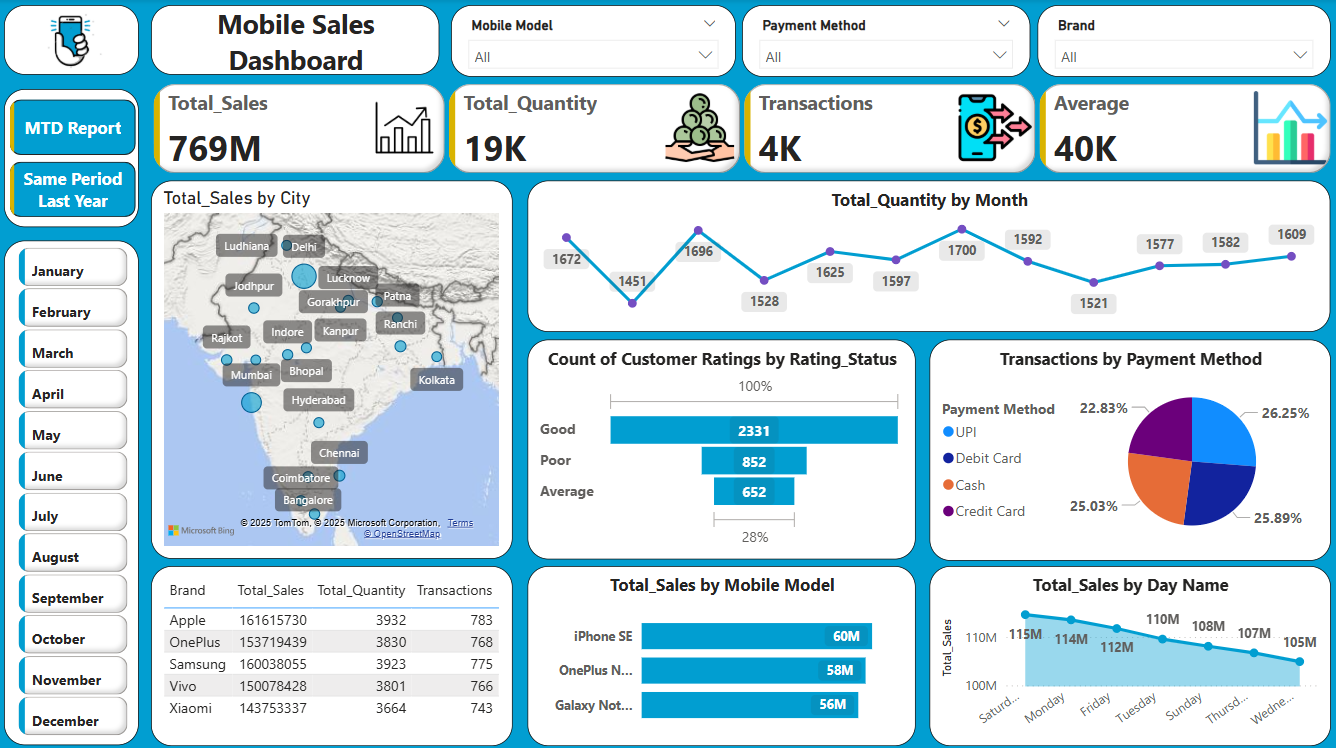

What the dashboard file says about the page in this screenshot:
{"tool":"powerbi","page":{"name":"My_Dashboard","canvas":[1280,720],"ordinal":0},"visuals":[{"type":"shape","box":[6.4,6.4,128.8,66.8],"z":0},{"type":"shape","box":[6.4,230.6,128.8,482],"z":1000},{"type":"advancedSlicerVisual","fields":{"Values":["Custom_Calendar.Date.Variation.Date Hierarchy.Month"]},"box":[14.3,232.2,114.5,482],"z":2000},{"type":"cardVisual","fields":{"Data":["Sales_Data.Total_Sales","Sales_Data.Total_Quantity","Sales_Data.Transactions","Sales_Data.Average"]},"box":[143.2,76.3,1135.7,95.4],"z":3000},{"type":"map","fields":{"Category":["Sales_Data.City"],"Size":["Sales_Data.Total_Sales"]},"box":[146.3,173.4,345.2,361.1],"z":4000},{"type":"lineChart","fields":{"Y":["Sales_Data.Total_Quantity"],"Category":["Custom_Calendar.Date.Variation.Date Hierarchy.Month"]},"box":[505.8,173.4,766.7,144.7],"z":5000},{"type":"clusteredBarChart","fields":{"Category":["Sales_Data.Mobile Model"],"Y":["Sales_Data.Total_Sales"]},"box":[505.8,540.8,370.6,171.8],"z":6000},{"type":"pieChart","fields":{"Category":["Sales_Data.Payment Method"],"Y":["Sales_Data.Transactions"]},"box":[889.2,324.5,383.3,211.6],"z":7000},{"type":"tableEx","fields":{"Values":["Sales_Data.Brand","Sales_Data.Total_Sales","Sales_Data.Total_Quantity","Sales_Data.Transactions"]},"box":[146.3,540.8,345.2,171.8],"z":8000},{"type":"slicer","fields":{"Values":["Sales_Data.Mobile Model"]},"box":[432.6,6.4,272,68.4],"z":9000},{"type":"slicer","fields":{"Values":["Sales_Data.Payment Method"]},"box":[711,6.4,275.2,68.4],"z":10000},{"type":"slicer","fields":{"Values":["Sales_Data.Brand"]},"box":[992.5,6.4,279.9,68.4],"z":11000},{"type":"image","box":[12.7,3.2,112.9,77.9],"z":12000},{"type":"shape","title":"Mobile Sales Dashboard","box":[146.3,6.4,275.2,66.8],"z":13000},{"type":"funnel","fields":{"Y":["CountNonNull(Sales_Data.Customer Ratings)"],"Category":["Sales_Data.Rating_Status"]},"box":[505.8,324.5,370.6,210],"z":14000},{"type":"areaChart","fields":{"Category":["Custom_Calendar.Day Name"],"Y":["Sales_Data.Total_Sales"]},"box":[889,541,383,172],"z":15000},{"type":"shape","box":[6.4,85.9,128.8,132],"z":16000},{"type":"pageNavigator","box":[11.1,95.4,120.9,112.9],"z":17000}]}

Visuals, with their boxes in screenshot pixels (x1, y1, x2, y2), scaled from the page's 1280x720 canvas onto the 1336x748 screenshot:
shape: box=[7, 7, 141, 76]
shape: box=[7, 240, 141, 740]
advancedSlicerVisual - Custom_Calendar.Date.Variation.Date Hierarchy.Month: box=[15, 241, 134, 742]
cardVisual - Sales_Data.Total_Sales x Sales_Data.Total_Quantity: box=[149, 79, 1335, 178]
map - Sales_Data.City x Sales_Data.Total_Sales: box=[153, 180, 513, 555]
lineChart - Sales_Data.Total_Quantity x Custom_Calendar.Date.Variation.Date Hierarchy.Month: box=[528, 180, 1328, 330]
clusteredBarChart - Sales_Data.Mobile Model x Sales_Data.Total_Sales: box=[528, 562, 915, 740]
pieChart - Sales_Data.Payment Method x Sales_Data.Transactions: box=[928, 337, 1328, 557]
tableEx - Sales_Data.Brand x Sales_Data.Total_Sales: box=[153, 562, 513, 740]
slicer - Sales_Data.Mobile Model: box=[452, 7, 735, 78]
slicer - Sales_Data.Payment Method: box=[742, 7, 1029, 78]
slicer - Sales_Data.Brand: box=[1036, 7, 1328, 78]
image: box=[13, 3, 131, 84]
"Mobile Sales Dashboard" shape: box=[153, 7, 440, 76]
funnel - CountNonNull(Sales_Data.Customer Ratings) x Sales_Data.Rating_Status: box=[528, 337, 915, 555]
areaChart - Custom_Calendar.Day Name x Sales_Data.Total_Sales: box=[928, 562, 1328, 741]
shape: box=[7, 89, 141, 226]
pageNavigator: box=[12, 99, 138, 216]
